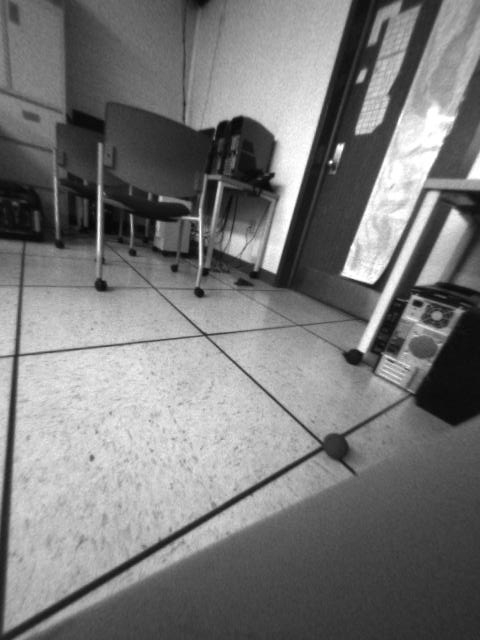dogtoy: (313, 424, 358, 466)
